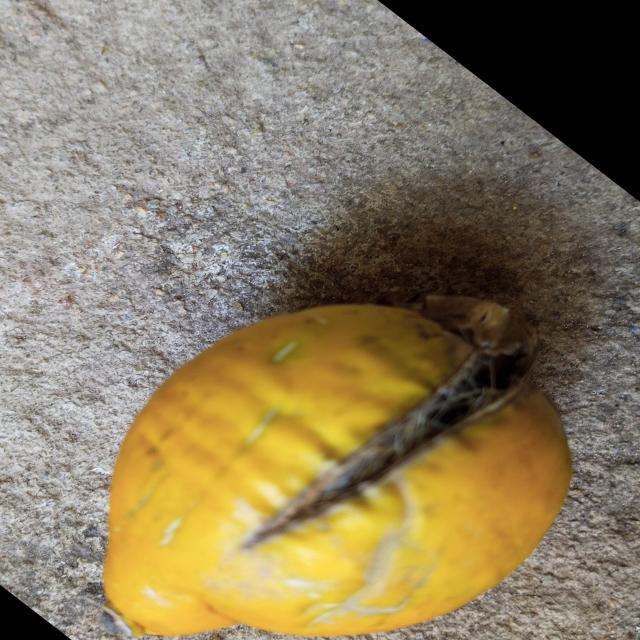damaged: (101, 304, 572, 640)
